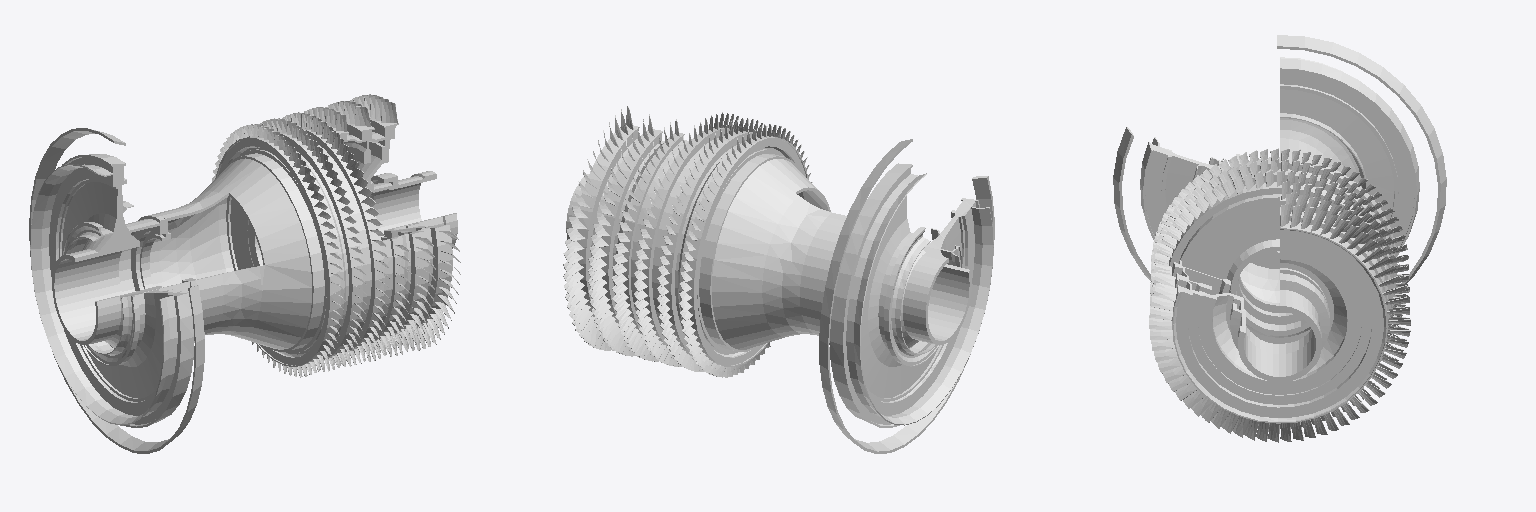
The model's file is turbine_spool_2.obj.
3 renders of one model, left to right at view 1: azimuth 30°, elevation 25°; view 2: azimuth 150°, elevation 25°; view 3: azimuth 270°, elevation 25°, orthographic.
Visible parts, largest first — view 1: spool_3-1, spool_3; view 2: spool_3-1, spool_3; view 3: spool_3-1, spool_3.
Part boxes in pixels (x1,y1,x2,y2): spool_3-1: (30,118,457,427); spool_3: (29,94,460,453); spool_3-1: (566,125,993,427); spool_3: (563,106,994,453); spool_3-1: (1140,57,1419,423); spool_3: (1113,35,1446,442).
Size of the model in its own units: 0.0009 by 0.0007 by 0.0007.